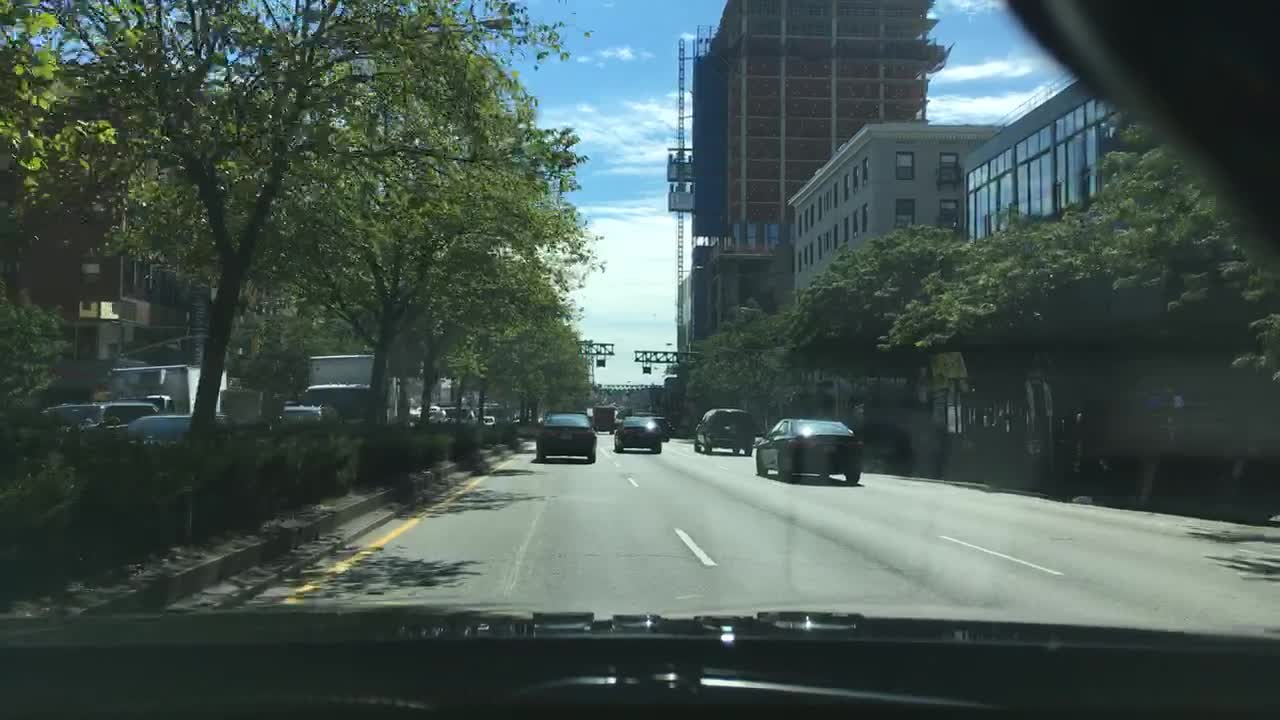car: (756, 414, 864, 483), (534, 410, 599, 464), (43, 401, 159, 429), (694, 408, 754, 457), (131, 412, 228, 435), (615, 413, 662, 455), (280, 401, 338, 423), (414, 402, 450, 423), (652, 414, 674, 443), (447, 406, 476, 423), (614, 413, 625, 428), (481, 415, 497, 425)
traffic sign: (597, 359, 606, 367), (642, 366, 652, 373)
truck: (302, 353, 399, 426), (114, 361, 229, 413), (591, 404, 616, 435)
